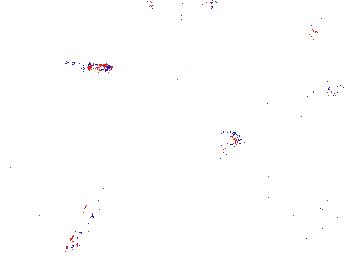X-ray fish: (178, 130, 247, 173)
glassfish: (179, 134, 273, 197), (70, 160, 126, 247)
red belly glassfish: (296, 8, 341, 30), (67, 59, 114, 75)
redtail glassfish: (143, 1, 220, 24)
